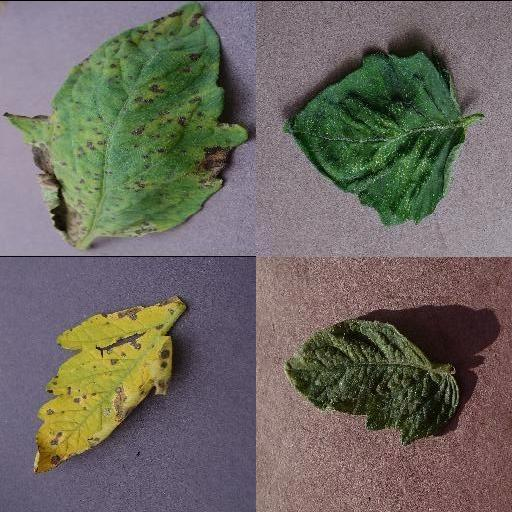Septoria: (7, 1, 245, 249), (30, 294, 190, 474)
Spider Mites: (282, 48, 464, 223), (282, 320, 458, 442)
